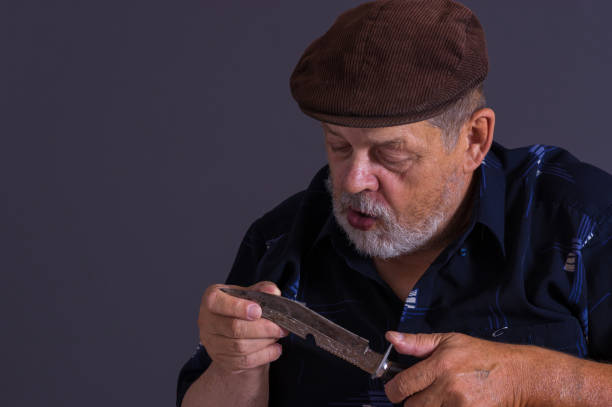knife: (220, 287, 410, 382)
